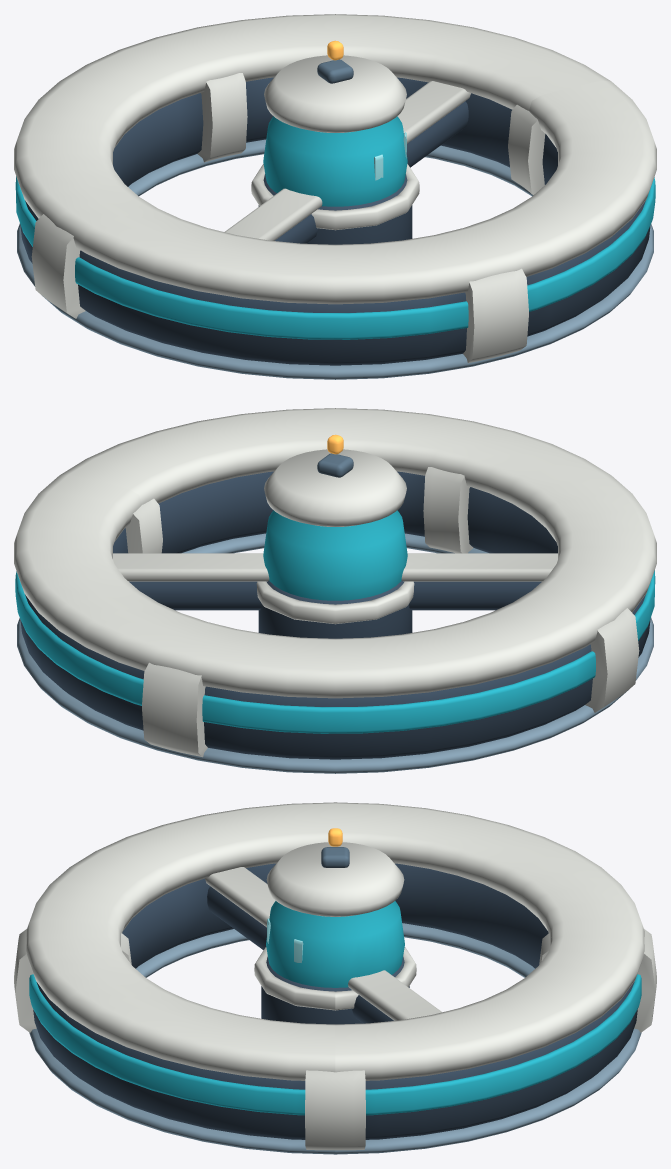
The model's file is colony_ring_lv1.glb.
3 renders of one model, top to bottom at view 1: azimuth 30°, elevation 25°; view 2: azimuth 150°, elevation 25°; view 3: azimuth 270°, elevation 25°, orthographic. The views are drawn at different scales.
Visible parts, largest first — view 1: Structure; view 2: Structure; view 3: Structure.
Part boxes in pixels (x1,y1,x2,y2): Structure: [14, 14, 656, 379]; Structure: [14, 408, 656, 773]; Structure: [14, 802, 656, 1154].
Size of the model in its own units: 8.08 by 3.07 by 8.08.
